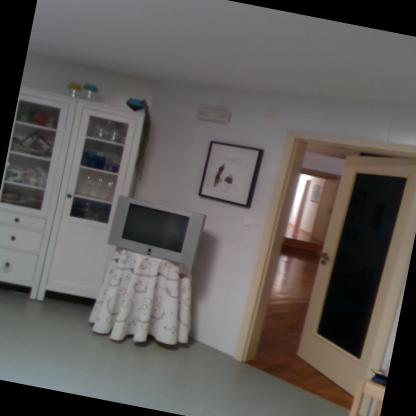semi: (233, 115, 415, 398)
